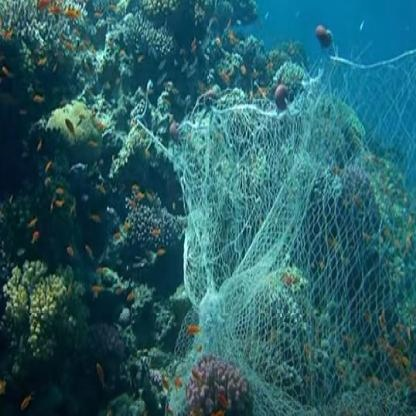net: (198, 106, 416, 416)
